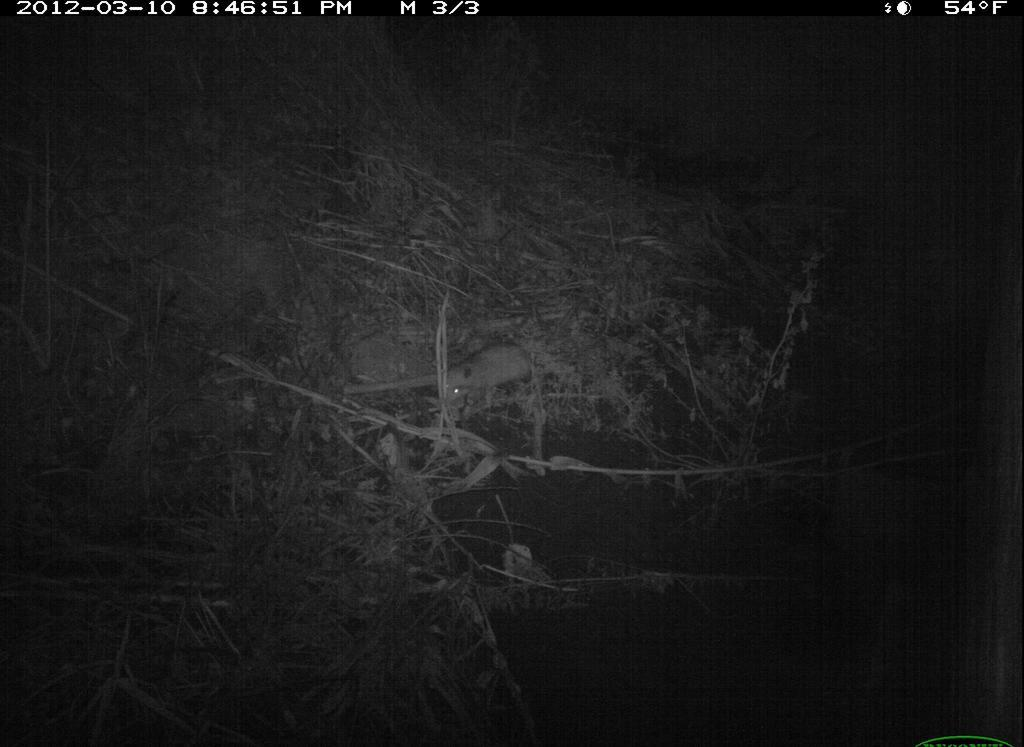opossum: (422, 329, 545, 430)
